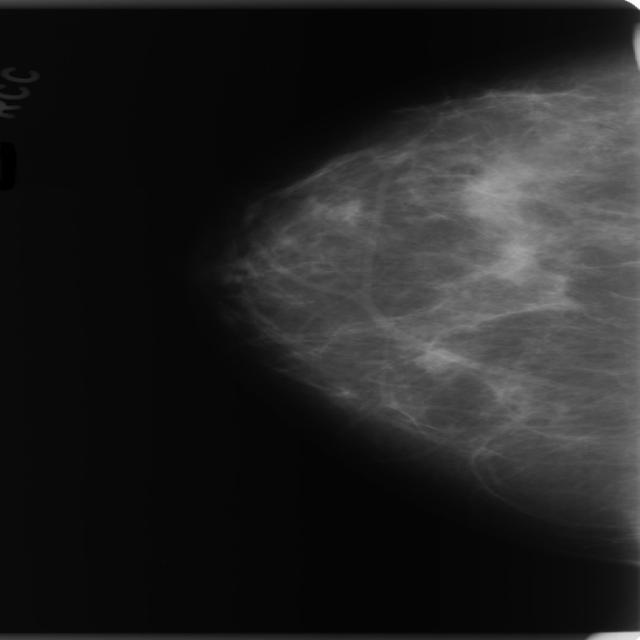tumour: (411, 348, 458, 373)
